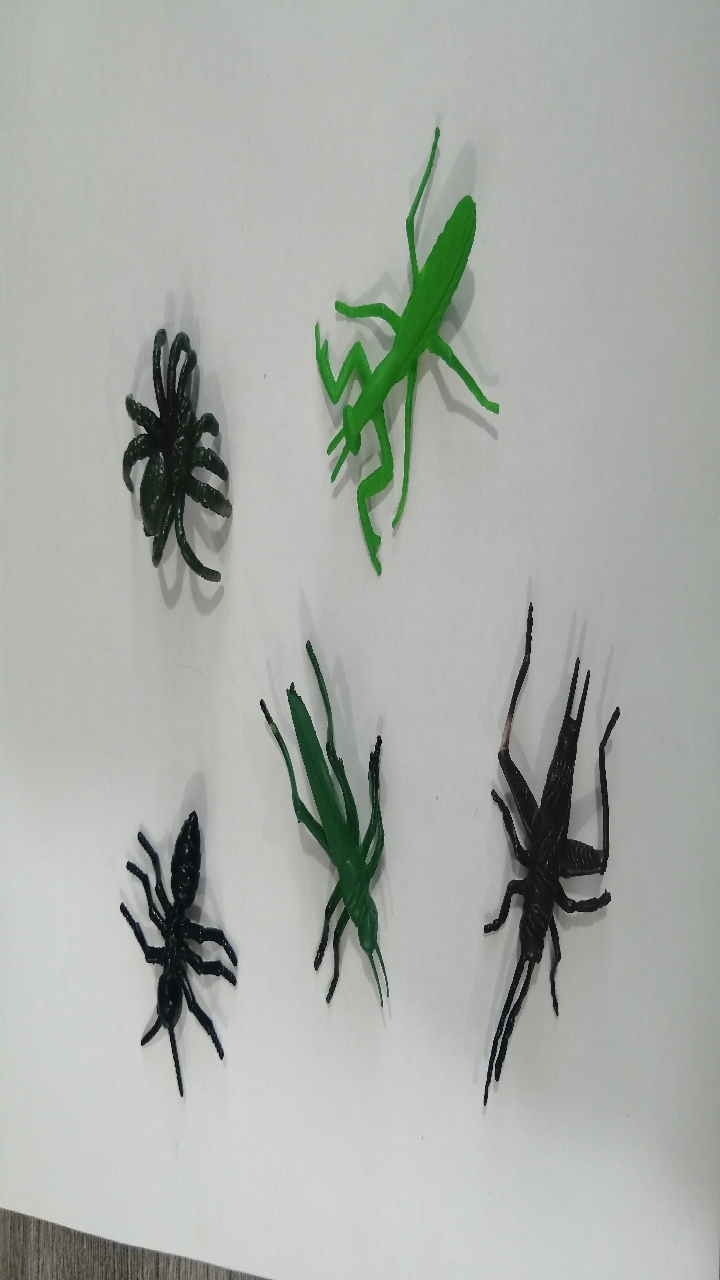intruso: (274, 112, 512, 594), (441, 583, 637, 1139), (217, 631, 423, 1028), (58, 285, 246, 628), (63, 766, 248, 1109)
